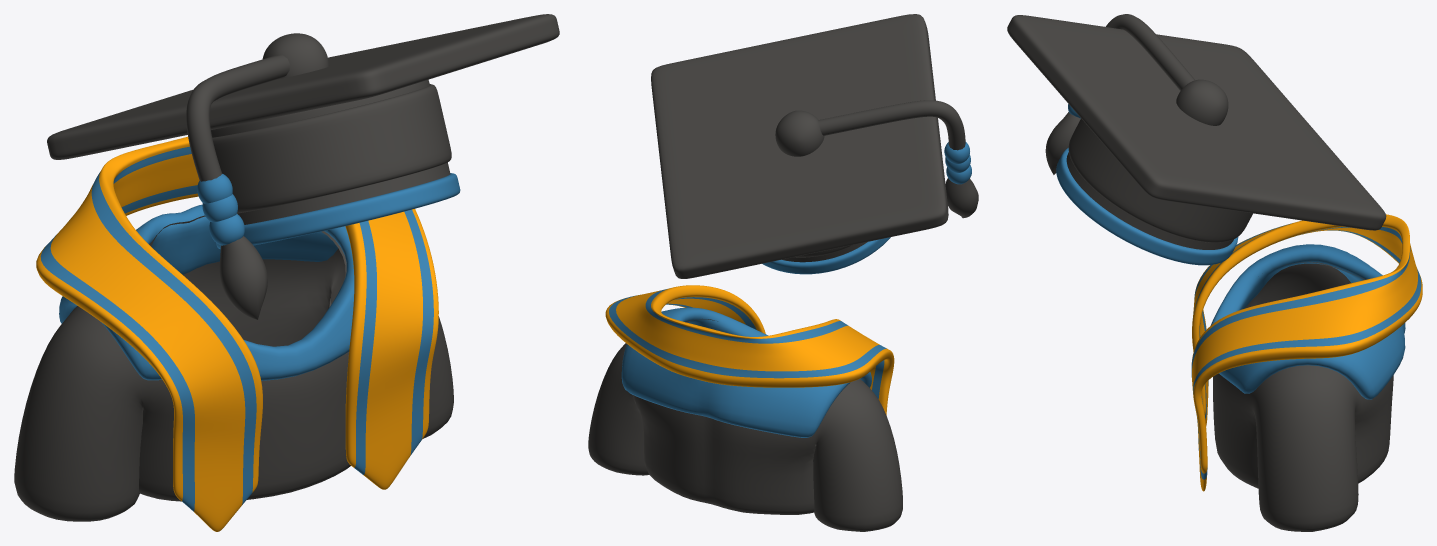
Rendered from Graduation robes.glb.
The picture shows the model from 3 angles, left to right: view 1: azimuth 30°, elevation 25°; view 2: azimuth 150°, elevation 25°; view 3: azimuth 270°, elevation 25°; orthographic projection. The views are drawn at different scales.
Parts seen in each view (by area): view 1: Plane.042, Cube.229, Plane.038, Circle.074, Cube.230, Circle.075, Circle.073, NurbsPath.041, NurbsPath.042, Cube.152, Cube.166, Cube.153 (+1 smaller); view 2: Plane.038, Cube.229, Plane.042, Cube.230, NurbsPath.041, Cube.152, Circle.075, NurbsPath.042; view 3: Plane.038, Cube.229, Plane.042, Cube.230, Circle.074, Circle.075, NurbsPath.041, Cube.152, Circle.073, NurbsPath.042.
Boxes of the visible parts, <box> form: Plane.042: <box>36,136,438,531</box>; Cube.229: <box>14,215,453,521</box>; Plane.038: <box>47,14,559,159</box>; Circle.074: <box>212,84,451,213</box>; Cube.230: <box>59,204,354,380</box>; Circle.075: <box>216,173,460,249</box>; Circle.073: <box>211,79,450,224</box>; NurbsPath.041: <box>186,55,289,181</box>; NurbsPath.042: <box>219,236,267,319</box>; Cube.152: <box>262,33,329,78</box>; Cube.166: <box>209,214,244,245</box>; Cube.153: <box>197,174,232,203</box>; Plane.038: <box>651,14,948,278</box>; Cube.229: <box>588,318,902,531</box>; Plane.042: <box>605,285,894,415</box>; Cube.230: <box>621,307,871,437</box>; NurbsPath.041: <box>818,100,965,150</box>; Cube.152: <box>775,110,824,156</box>; Circle.075: <box>762,237,890,274</box>; NurbsPath.042: <box>945,178,978,218</box>; Plane.038: <box>1007,15,1386,230</box>; Cube.229: <box>1213,261,1393,531</box>; Plane.042: <box>1191,214,1422,491</box>; Cube.230: <box>1210,244,1405,399</box>; Circle.074: <box>1068,118,1252,242</box>; Circle.075: <box>1056,147,1238,265</box>; NurbsPath.041: <box>1105,14,1194,90</box>; Cube.152: <box>1176,79,1228,125</box>; Circle.073: <box>1066,152,1233,249</box>; NurbsPath.042: <box>1045,112,1080,174</box>.
Size of the model in its own units: 2.04 by 2.32 by 2.05.
